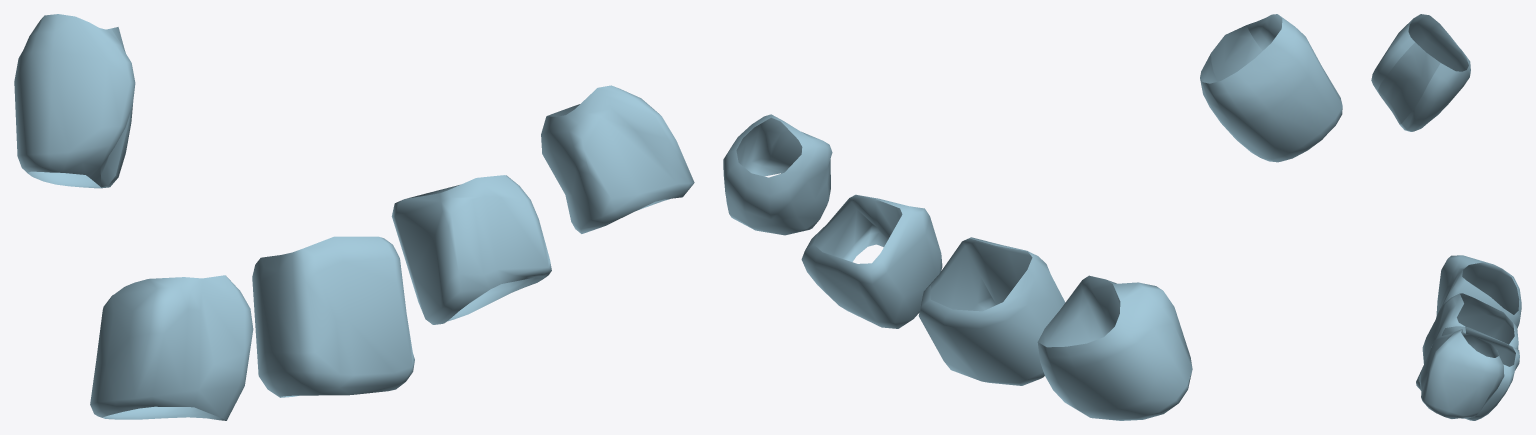
File: articulacoes-articular-capsules-of-metacarpophalangeal-joints-r.glb
3 renders of one model, left to right at view 1: azimuth 30°, elevation 25°; view 2: azimuth 150°, elevation 25°; view 3: azimuth 270°, elevation 25°, orthographic. The views are drawn at different scales.
Visible parts, largest first — view 1: Articular capsules of metacarpophalangeal joints.r; view 2: Articular capsules of metacarpophalangeal joints.r; view 3: Articular capsules of metacarpophalangeal joints.r.
Part boxes in pixels (x1,y1,x2,y2): Articular capsules of metacarpophalangeal joints.r: (14, 14, 694, 420); Articular capsules of metacarpophalangeal joints.r: (723, 14, 1342, 420); Articular capsules of metacarpophalangeal joints.r: (1371, 14, 1521, 420).
Size of the model in its own units: 0.0924 by 0.0614 by 0.0286.
